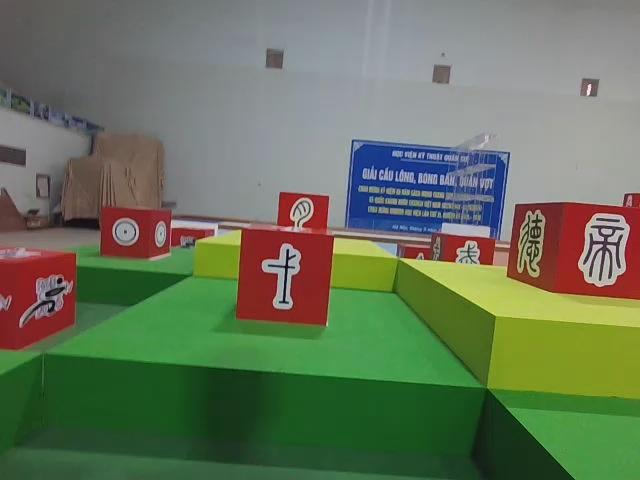R1: (0, 251, 77, 351)
R2 Fake: (507, 203, 640, 304), (435, 234, 495, 276), (278, 193, 328, 240)
R2 Real: (235, 230, 333, 331), (100, 209, 169, 259)
